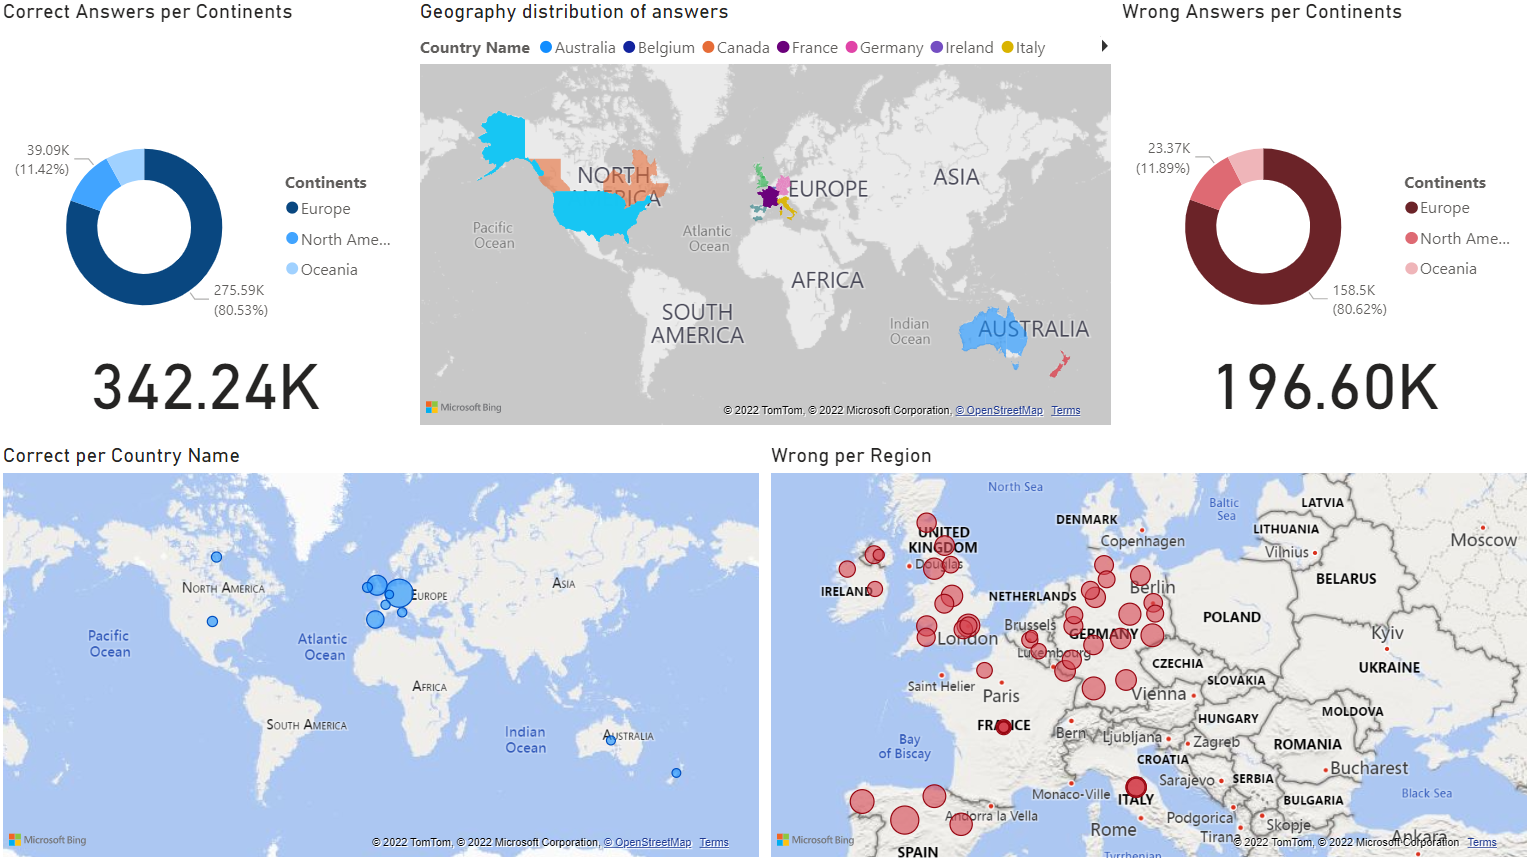

What the dashboard file says about the page in this screenshot:
{"tool":"powerbi","page":{"name":"Dashboard 1","canvas":[1280,720],"ordinal":0},"visuals":[{"type":"filledMap","title":"Geography distribution of answers","fields":{"Category":["User.Geography.Continents","User.Geography.Country Name","User.Geography.Region"],"Series":["User.Geography.Country Name"]},"box":[347.2,0,585.5,359.9],"z":0},{"type":"map","fields":{"Category":["User.Geography.Continents","User.Geography.Country Name","User.Geography.Region"],"Size":["Answers (Measures).Correct"]},"box":[0,369.6,395.9,350.2],"z":1000},{"type":"map","fields":{"Category":["User.Geography.Continents","User.Geography.Country Name","User.Geography.Region"],"Size":["Answers (Measures).Wrong"]},"box":[884.1,369.6,395.9,350.2],"z":2000},{"type":"donutChart","title":"Correct Answers per Continents","fields":{"Category":["User.Geography.Continents","User.Geography.Country Name","User.Geography.Region"],"Y":["Answers (Measures).Correct"]},"box":[0,0,347,360],"z":3000},{"type":"donutChart","title":"Wrong Answers per Continents","fields":{"Category":["User.Geography.Continents","User.Geography.Country Name","User.Geography.Region"],"Y":["Answers (Measures).Wrong"]},"box":[932.8,0,347.2,359.9],"z":4000},{"type":"areaChart","fields":{"Category":["Date.Date Of Answer.Year","Date.Date Of Answer.Quarter","Date.Date Of Answer.Month","Date.Date Of Answer.Day"],"Y":["Answers (Measures).Correct","Answers (Measures).Wrong"]},"box":[395.9,392,488.3,327.8],"z":5000},{"type":"card","fields":{"Values":["Answers (Measures).Correct"]},"box":[0,292.8,347.2,67.1],"z":6000},{"type":"card","fields":{"Values":["Answers (Measures).Wrong"]},"box":[932.8,292.8,347.2,67.1],"z":7000}]}

Visuals, with their boxes in screenshot pixels (x1, y1, x2, y2), scaled from the page's 1280x720 canvas onto the 1531x859 screenshot:
"Geography distribution of answers" filledMap: pyautogui.locateOnScreen(415, 0, 1116, 429)
map - User.Geography.Continents x User.Geography.Country Name: pyautogui.locateOnScreen(0, 441, 474, 858)
map - User.Geography.Continents x User.Geography.Country Name: pyautogui.locateOnScreen(1057, 441, 1530, 858)
"Correct Answers per Continents" donutChart: pyautogui.locateOnScreen(0, 0, 415, 430)
"Wrong Answers per Continents" donutChart: pyautogui.locateOnScreen(1116, 0, 1530, 429)
areaChart - Date.Date Of Answer.Year x Date.Date Of Answer.Quarter: pyautogui.locateOnScreen(474, 468, 1058, 858)
card - Answers (Measures).Correct: pyautogui.locateOnScreen(0, 349, 415, 429)
card - Answers (Measures).Wrong: pyautogui.locateOnScreen(1116, 349, 1530, 429)
